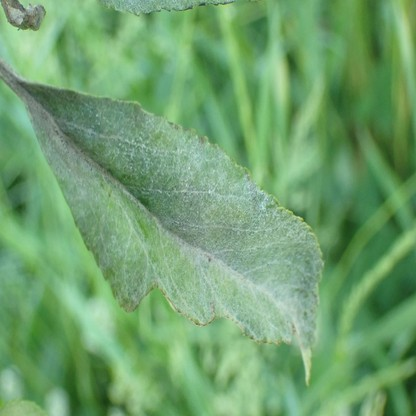powdery_mildew: (24, 84, 324, 388)
